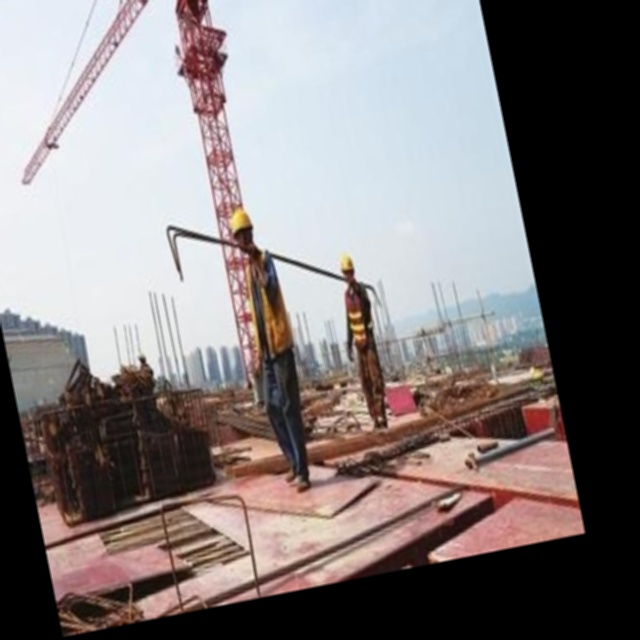Con_Chaleco: (341, 281, 376, 347)
